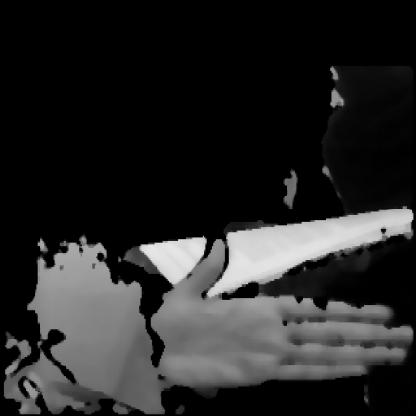handshake: (60, 191, 414, 414)
